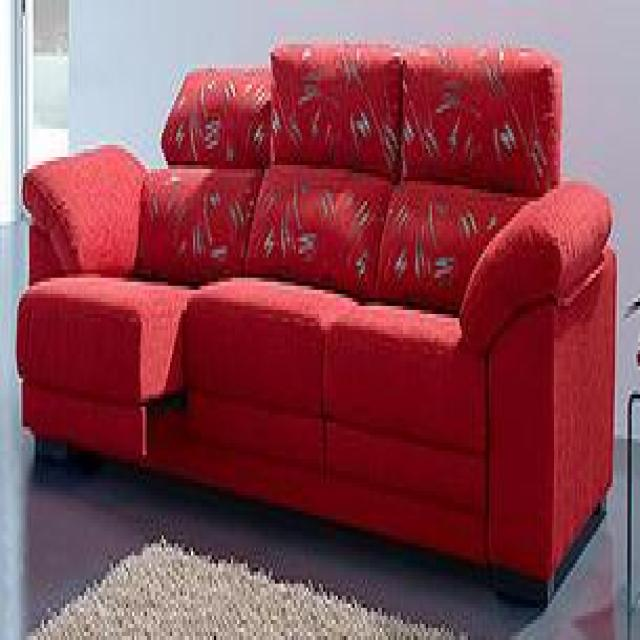sofa: (15, 36, 617, 604)
